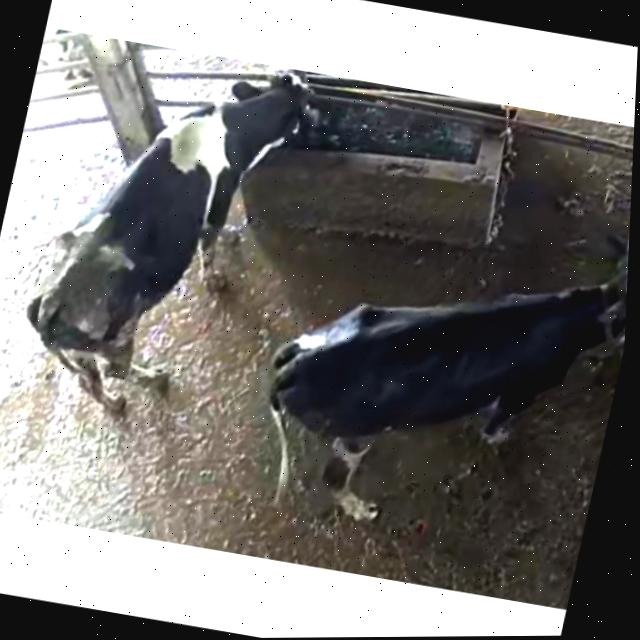drink: (212, 59, 362, 186)
